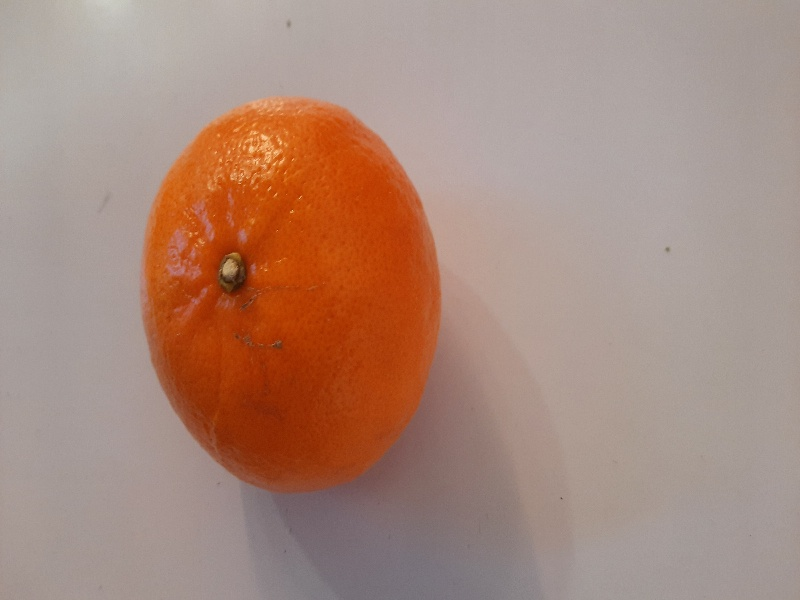fruit: (141, 87, 446, 490)
